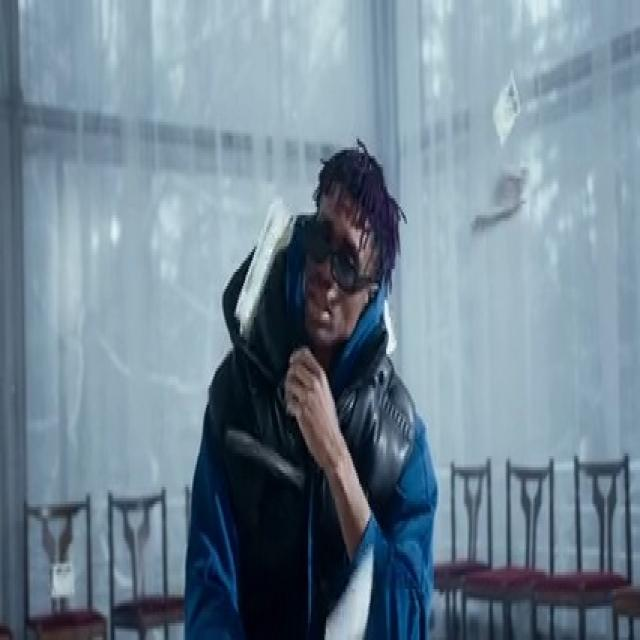Jacket_Wearer: (197, 263, 413, 640)
Person: (189, 116, 446, 640)
